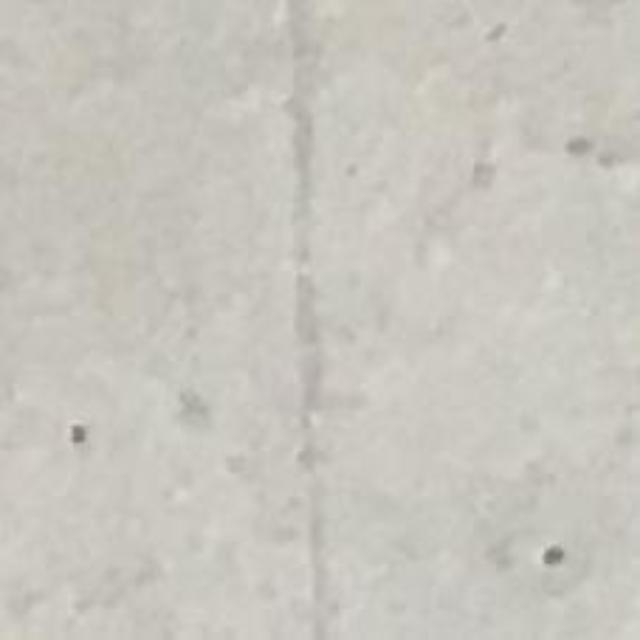crack: (288, 0, 329, 639)
